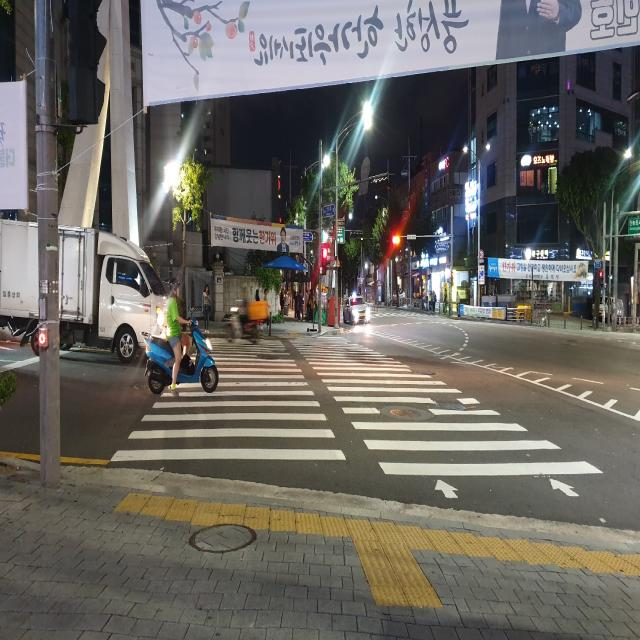빨간불: (322, 248, 326, 274), (600, 272, 603, 290)
횡단보도: (110, 334, 604, 500)
